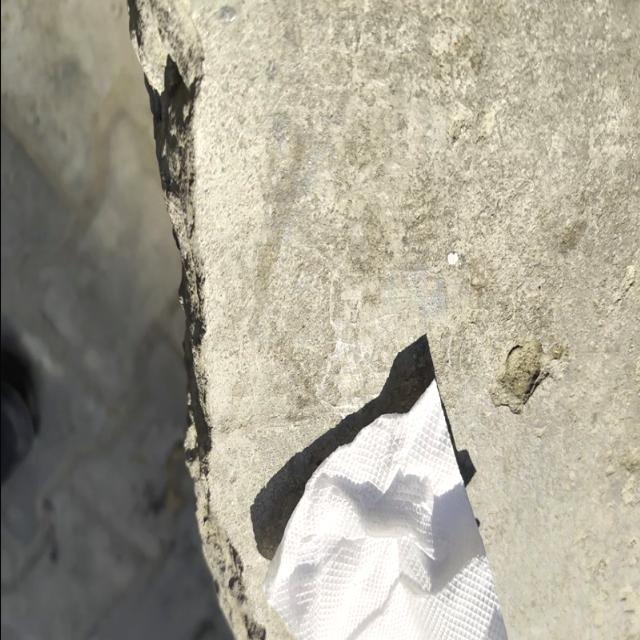tissue: (257, 373, 511, 640)
